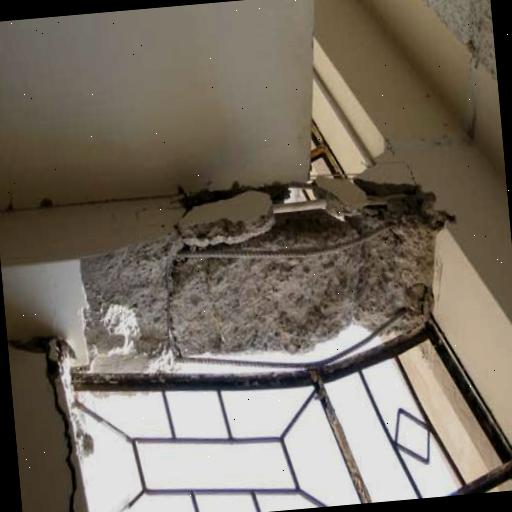spalling: (77, 191, 430, 359)
